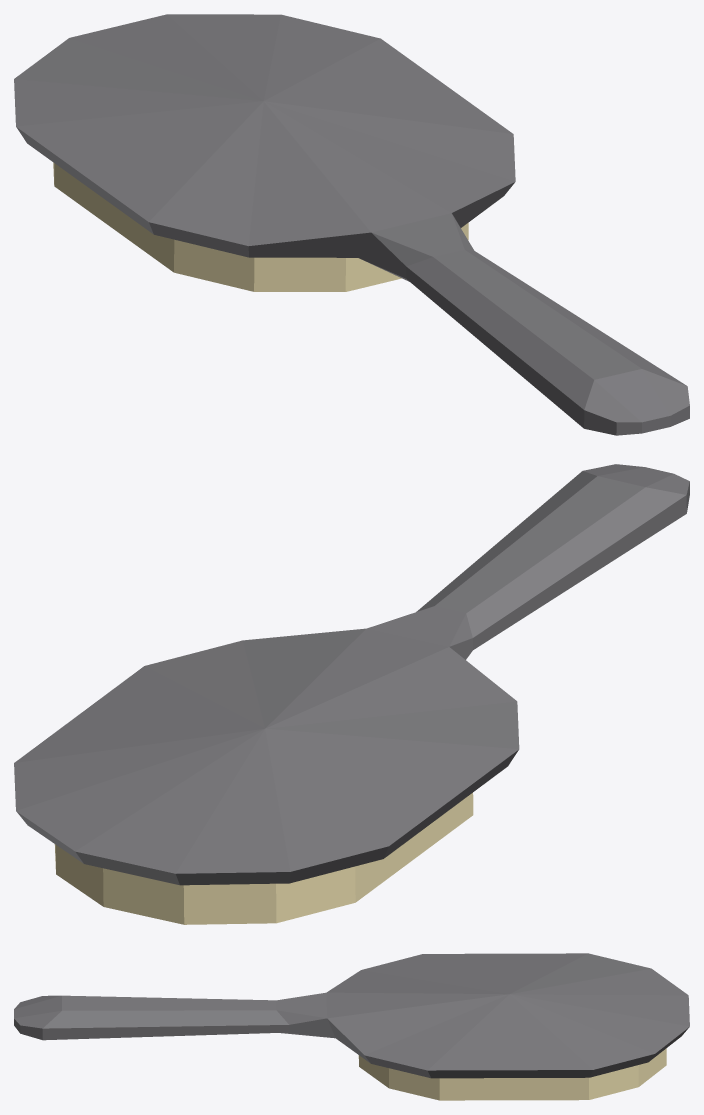
File: CollectableBrush.fbx
3 renders of one model, top to bottom at view 1: azimuth 30°, elevation 25°; view 2: azimuth 150°, elevation 25°; view 3: azimuth 270°, elevation 25°, orthographic. The views are drawn at different scales.
Visible parts, largest first — view 1: Brush; view 2: Brush; view 3: Brush.
Boxes of the visible parts, x1,y1,x2,y2 form: Brush: [14, 14, 689, 435]; Brush: [14, 464, 689, 924]; Brush: [14, 953, 689, 1100].
Bounding box in the file's own units: 11.7 × 2.91 × 29.28.
